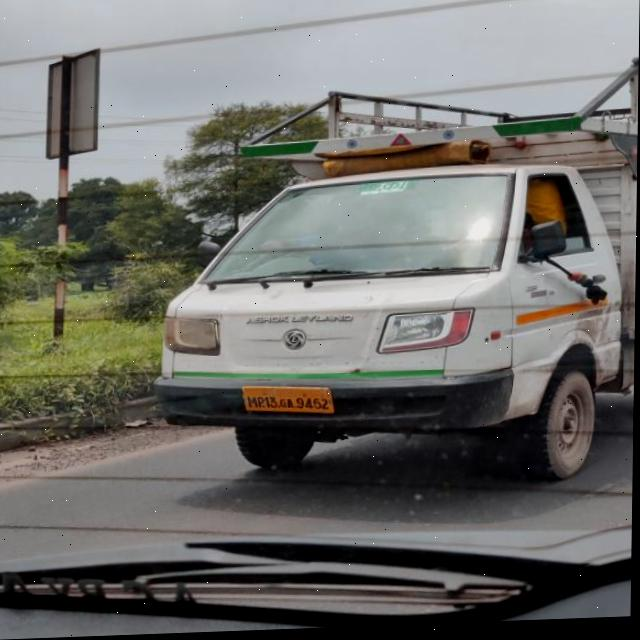plate: (241, 384, 336, 419)
